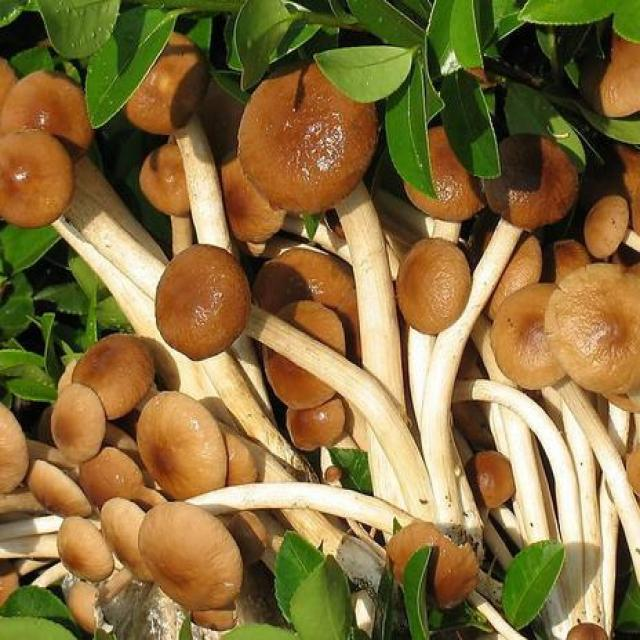Agrocybe aegerita: (0, 56, 634, 640)
